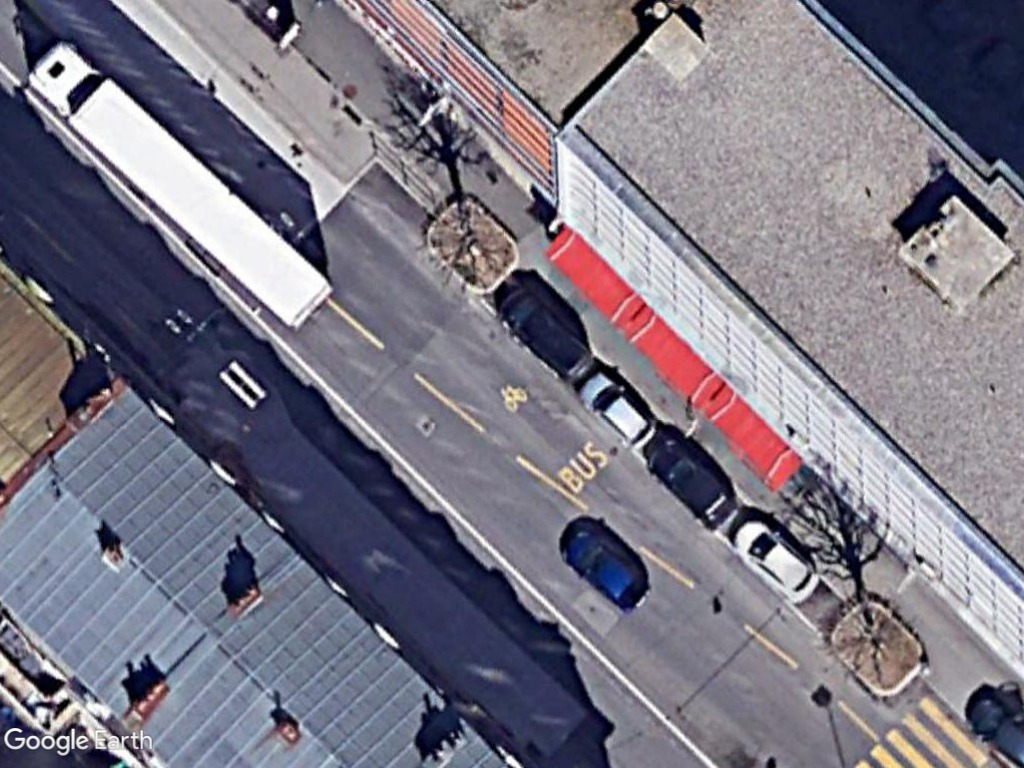car: (497, 278, 599, 386), (641, 429, 738, 538), (731, 514, 825, 609), (557, 523, 654, 611), (575, 369, 660, 456)
longvehicle: (23, 35, 337, 339)
